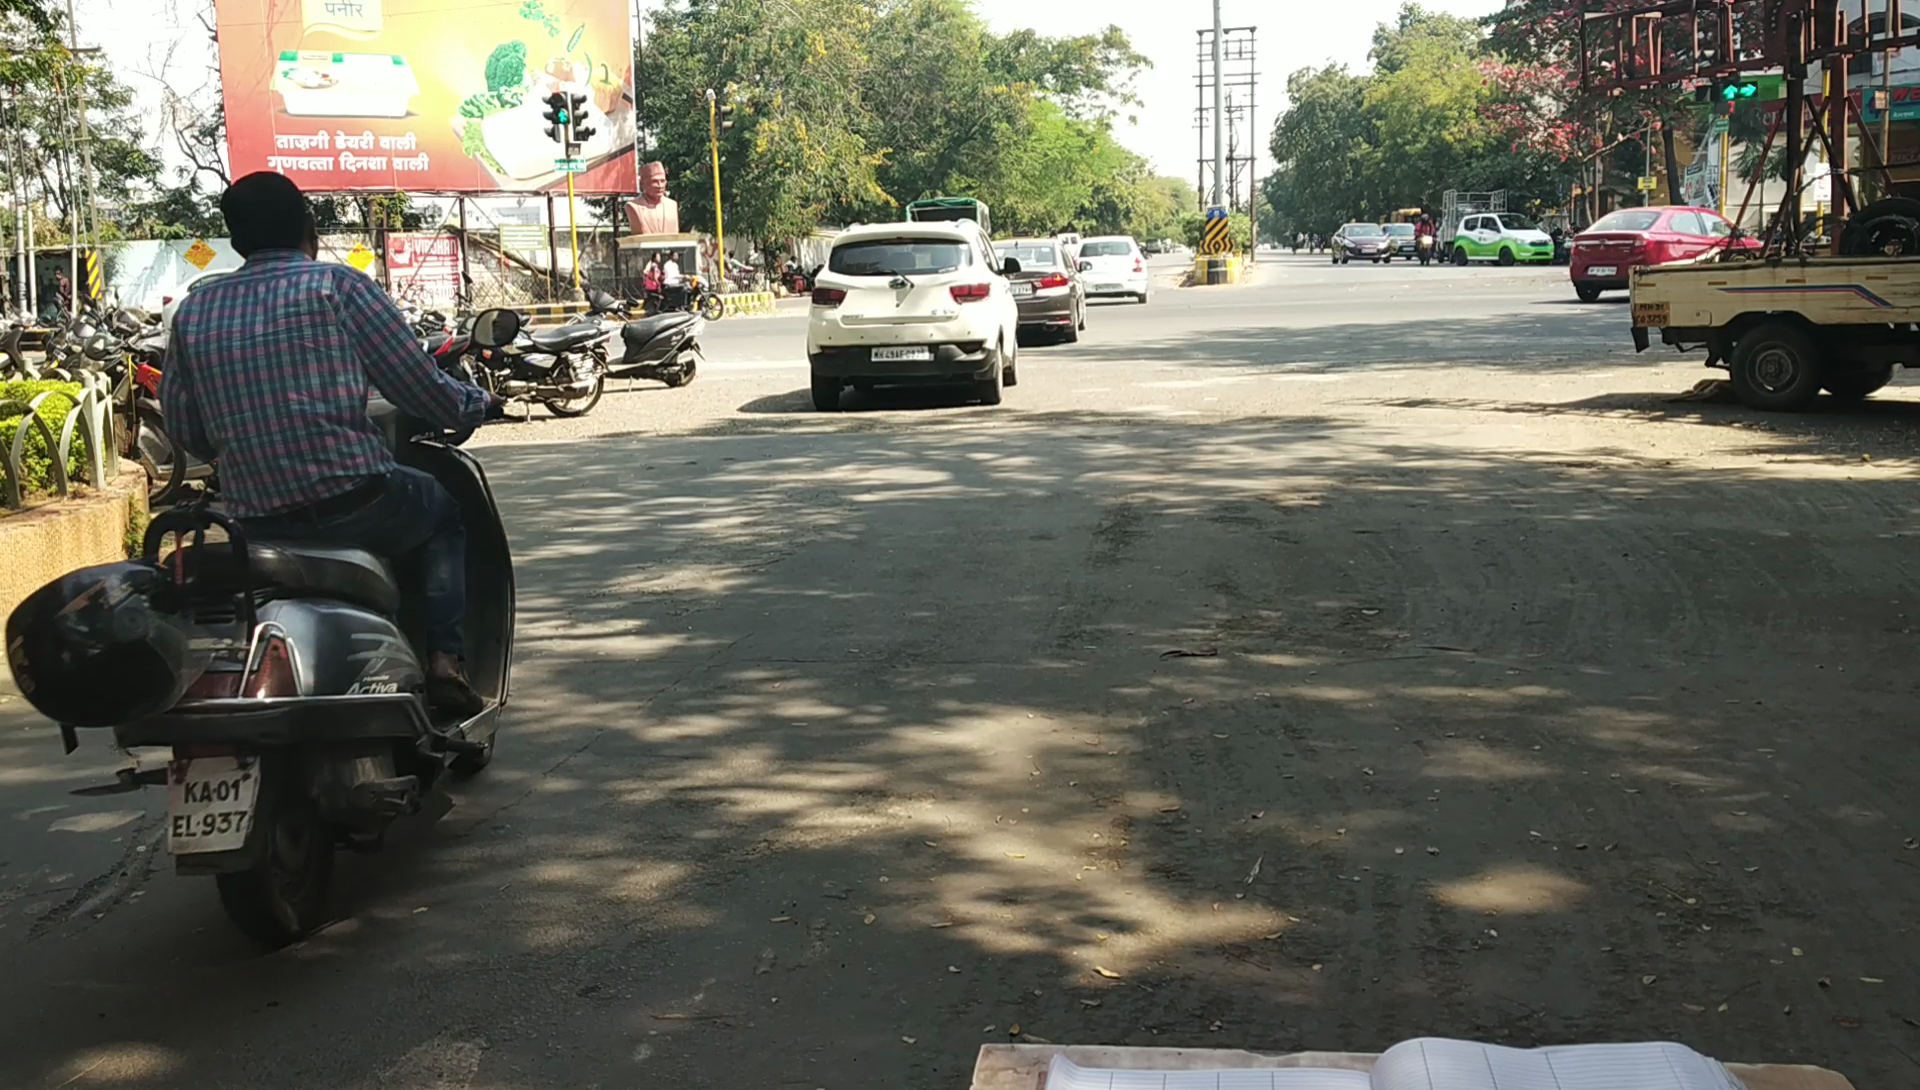car: (73, 302, 545, 944)
numplate: (147, 758, 275, 865)
